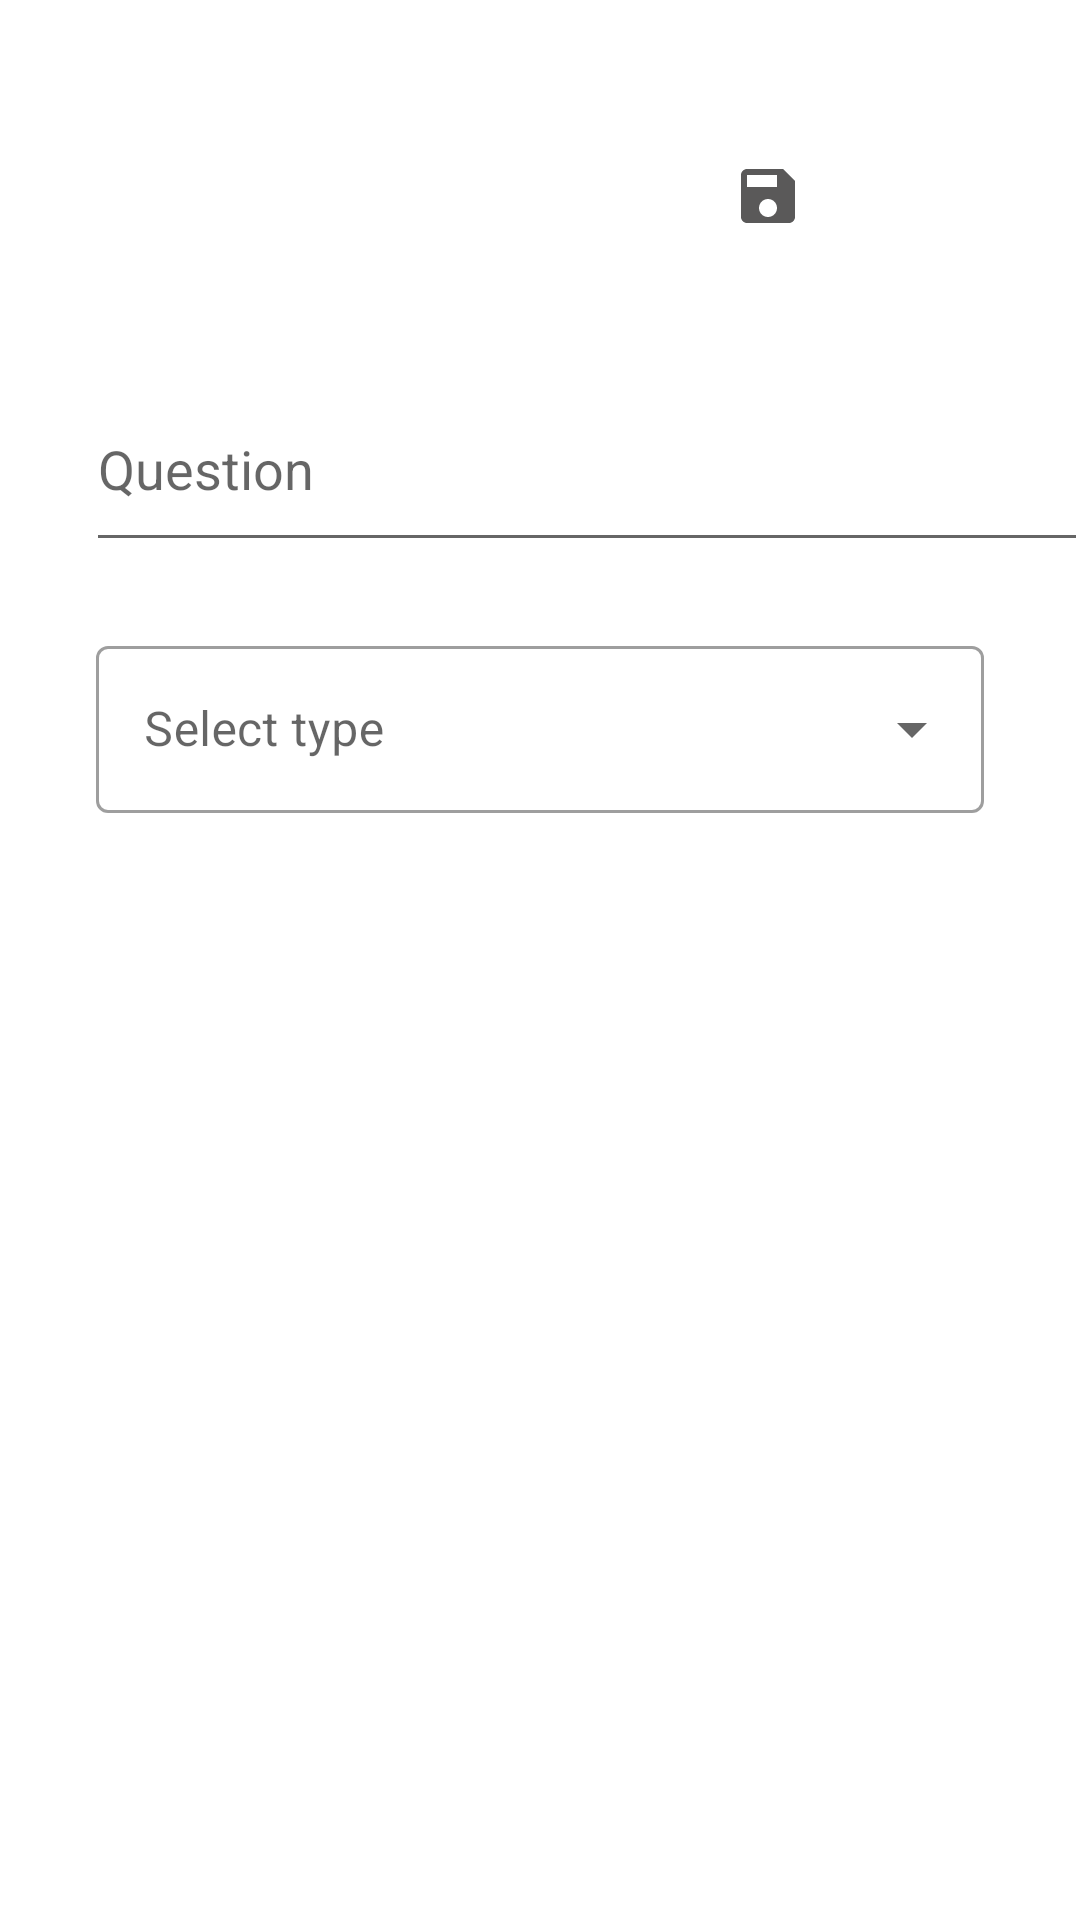

Named icons in this screenshot (1080 × 1920) and their bounding boxes, Rect(x1, y1, x2, y2):
save: Rect(741, 169, 795, 223)
